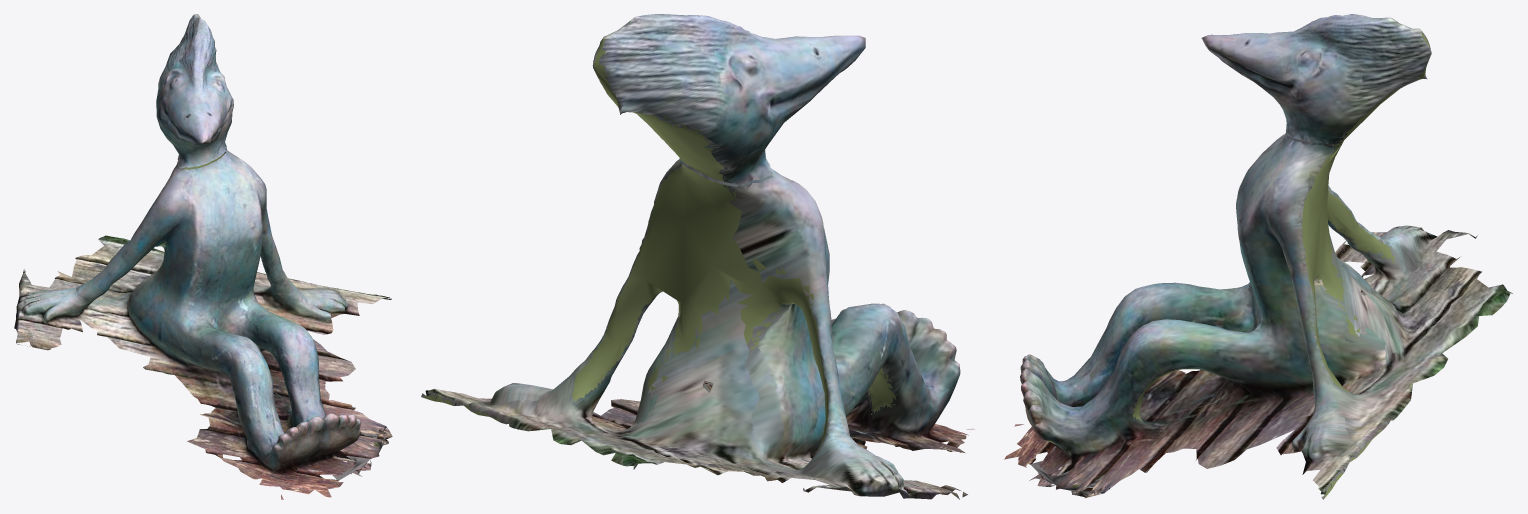
File: geinVogelAni.obj
3 renders of one model, left to right at view 1: azimuth 30°, elevation 25°; view 2: azimuth 150°, elevation 25°; view 3: azimuth 270°, elevation 25°, orthographic. The views are drawn at different scales.
Visible parts, largest first — view 1: geinVogel1, kop; view 2: geinVogel1, kop; view 3: geinVogel1, kop.
Part boxes in pixels (x1=…): geinVogel1: x1=14, y1=148, x2=392, y2=499; kop: x1=156, y1=14, x2=233, y2=168; geinVogel1: x1=421, y1=158, x2=974, y2=499; kop: x1=592, y1=14, x2=865, y2=183; geinVogel1: x1=1004, y1=133, x2=1512, y2=499; kop: x1=1201, y1=14, x2=1431, y2=144.
Bounding box in the file's own units: 17.89 × 17.06 × 17.31.
Materials: 1 (1 with a texture image).
